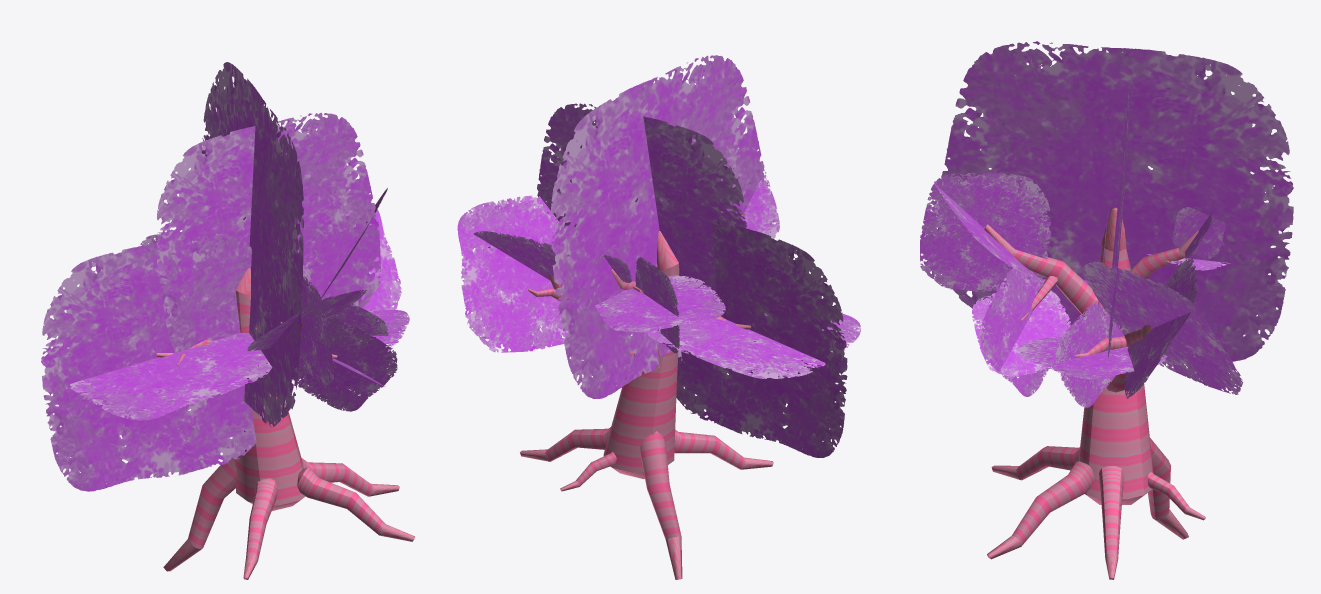
Rendered from SAModel_Tree.fbx.
3 views of the same model, side by side, from view 1: azimuth 30°, elevation 25°; view 2: azimuth 150°, elevation 25°; view 3: azimuth 270°, elevation 25° (orthographic). The views are drawn at different scales.
Parts seen in each view (by area): view 1: Stage0001__1_:Tree0; view 2: Stage0001__1_:Tree0; view 3: Stage0001__1_:Tree0.
Boxes of the visible parts, x1,y1,x2,y2 form: Stage0001__1_:Tree0: (41, 62, 414, 579); Stage0001__1_:Tree0: (457, 55, 860, 579); Stage0001__1_:Tree0: (920, 41, 1293, 579).
Bounding box in the file's own units: 20.99 × 25.4 × 16.64.
